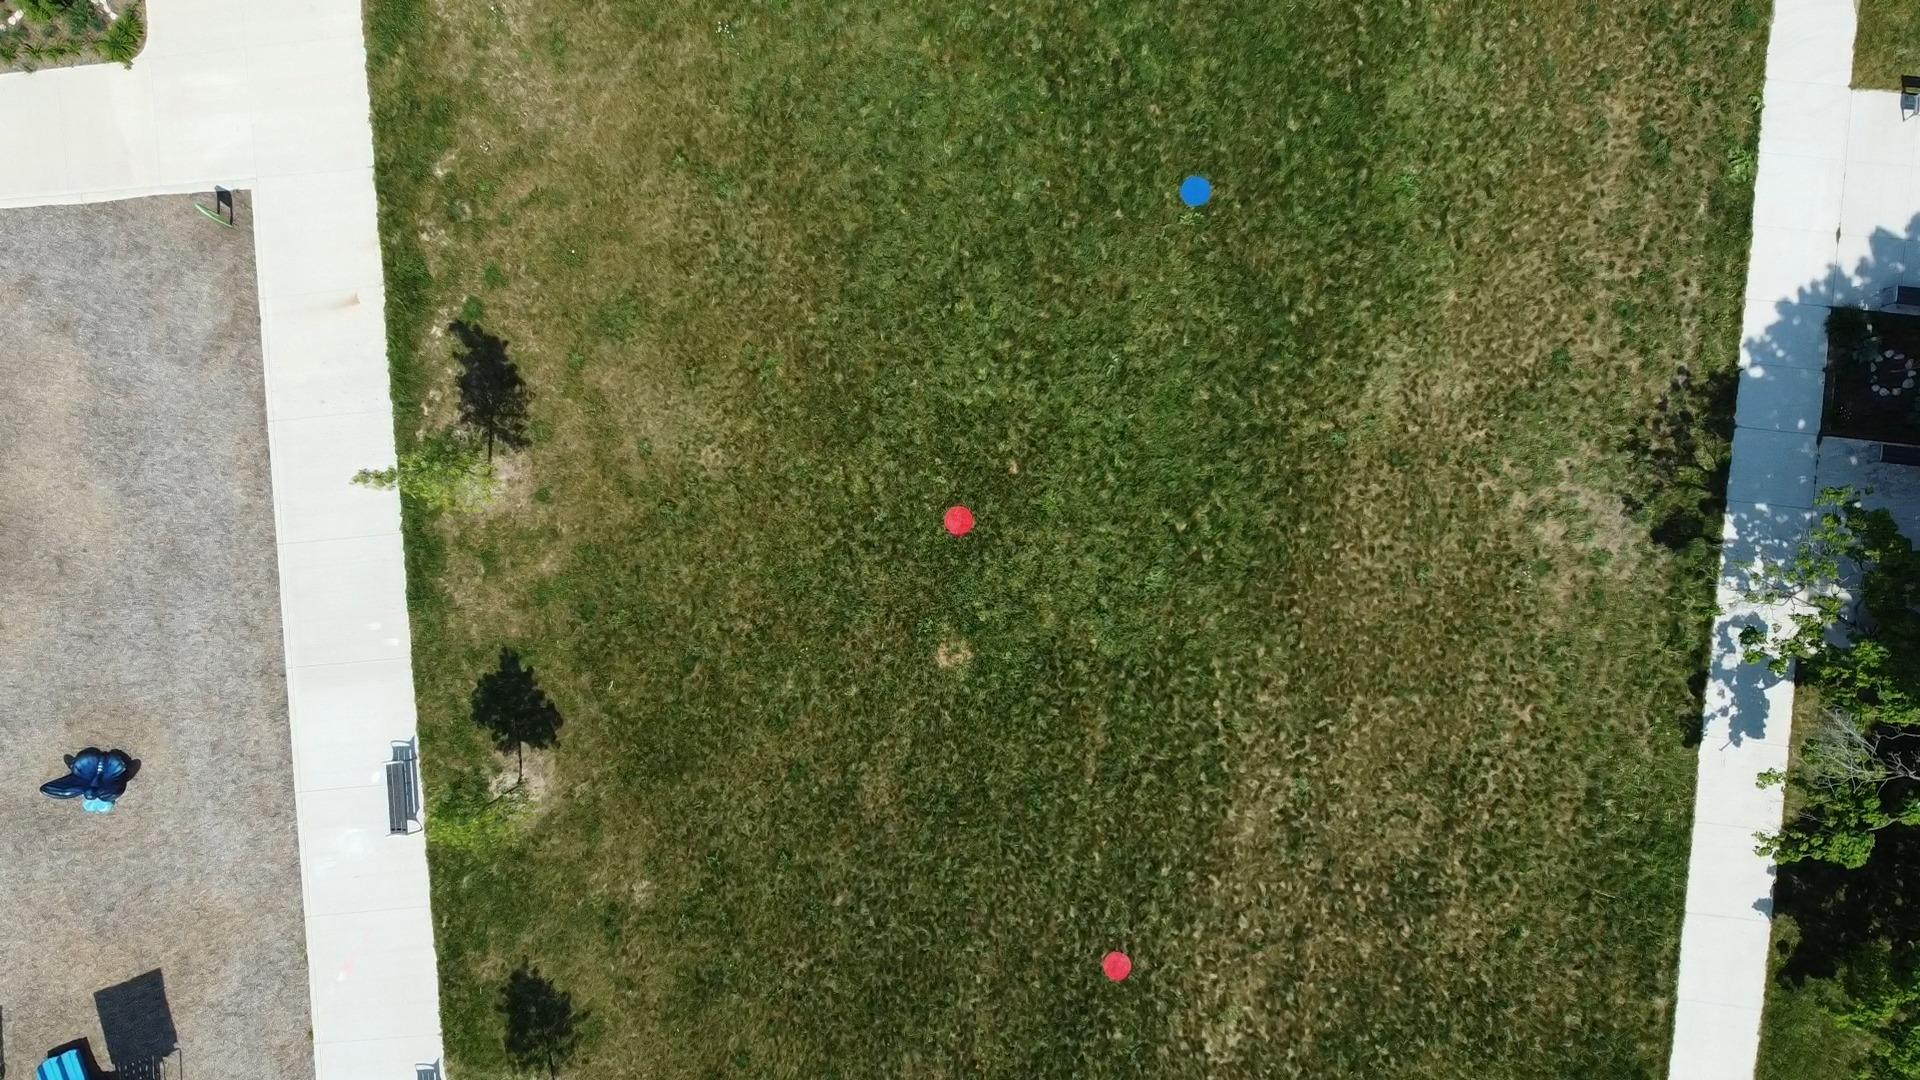Blue: (1179, 174, 1215, 208)
Red: (942, 504, 977, 539), (1100, 951, 1135, 981)
